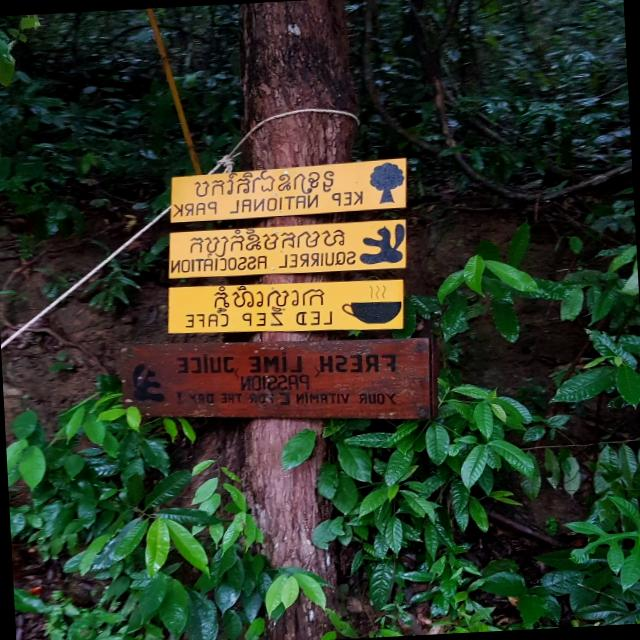Yolov11_80vkh: (187, 224, 351, 259), (192, 169, 341, 199), (201, 284, 335, 314)
